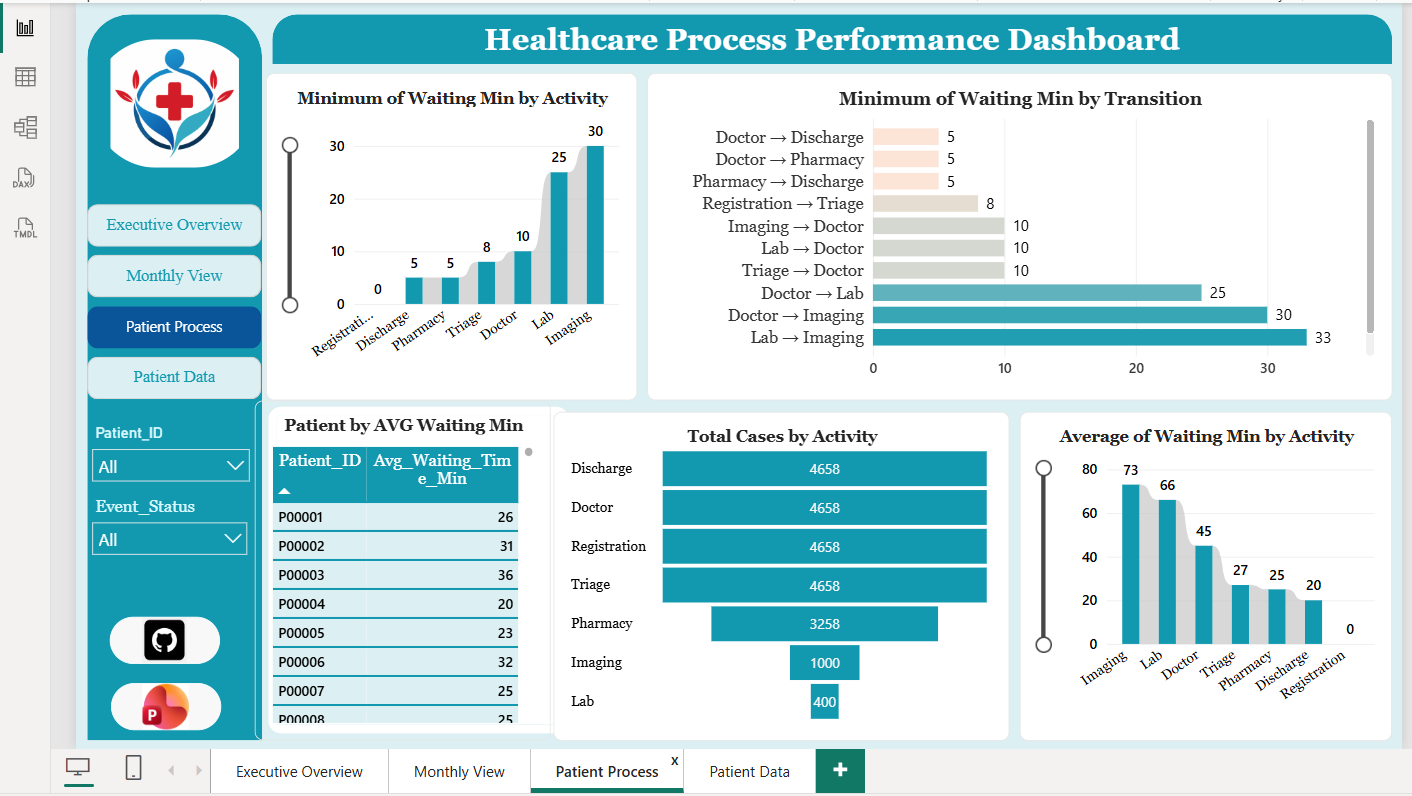

Layout of this report page (visuals, bound fields, positions):
{"tool":"powerbi","page":{"name":"Patient Process","canvas":[1280,720],"ordinal":2},"visuals":[{"type":"shape","box":[185.8,389.7,289.5,314.9],"z":0},{"type":"shape","box":[10.9,10.9,168.9,700.9],"z":1000},{"type":"image","box":[15.7,35,159.3,124.3],"z":2000},{"type":"shape","box":[189.4,10.9,1081,48.3],"z":3000},{"type":"barChart","title":"Minimum of Waiting Min by Transition","fields":{"Category":["mart_transition_analysis.Transition"],"Y":["Min(mart_transition_analysis.Min_Waiting_Time_Min)"]},"box":[551.3,67.6,719,316.1],"z":4000},{"type":"columnChart","title":"Minimum of Waiting Min by Activity","fields":{"Category":["mart_activity_bottleneck.Activity"],"Y":["Sum(mart_activity_bottleneck.Min_Waiting_Time_Min)"]},"box":[183.4,67.6,358.3,316.1],"z":5000},{"type":"columnChart","title":"Average of Waiting Min by Activity","fields":{"Category":["mart_activity_bottleneck.Activity"],"Y":["Avg(mart_activity_bottleneck.Avg_Waiting_Time_Min)"]},"box":[910.9,394.5,359.5,317.3],"z":6000},{"type":"tableEx","title":"Patient by AVG Waiting Min","fields":{"Values":["mart_case_summary.Patient_ID","mart_case_summary.Avg_Waiting_Time_Min"]},"box":[172.5,383.6,285.9,328.2],"z":7000},{"type":"funnel","title":"Total Cases by Activity","fields":{"Category":["mart_rework_analysis.Activity"],"Y":["Sum(mart_rework_analysis.Total_Cases)"]},"box":[460.9,394.5,440.4,317.3],"z":8000},{"type":"slicer","fields":{"Values":["mart_case_summary.Patient_ID"]},"box":[10.9,406.6,161.7,61.5],"z":9000},{"type":"pageNavigator","box":[10.9,194.2,168.9,189.4],"z":10000},{"type":"slicer","fields":{"Values":["mart_case_summary.Event_Status_Summary"]},"box":[10.9,476.5,159.3,61.5],"z":11000},{"type":"image","title":"Github","box":[32.6,592.4,106.2,45.8],"z":12000},{"type":"image","title":"Github","box":[33.8,656.3,106.2,45.8],"z":13000}]}

Visuals, with their boxes on the page's 1280x720 design canvas (x1, y1, x2, y2). These are canvas units, not pixel positions in the 1412x796 screenshot, which may show the page scaled, cropped or inside an application window:
shape: x1=186, y1=390, x2=475, y2=705
shape: x1=11, y1=11, x2=180, y2=712
image: x1=16, y1=35, x2=175, y2=159
shape: x1=189, y1=11, x2=1270, y2=59
"Minimum of Waiting Min by Transition" barChart: x1=551, y1=68, x2=1270, y2=384
"Minimum of Waiting Min by Activity" columnChart: x1=183, y1=68, x2=542, y2=384
"Average of Waiting Min by Activity" columnChart: x1=911, y1=394, x2=1270, y2=712
"Patient by AVG Waiting Min" tableEx: x1=172, y1=384, x2=458, y2=712
"Total Cases by Activity" funnel: x1=461, y1=394, x2=901, y2=712
slicer - mart_case_summary.Patient_ID: x1=11, y1=407, x2=173, y2=468
pageNavigator: x1=11, y1=194, x2=180, y2=384
slicer - mart_case_summary.Event_Status_Summary: x1=11, y1=476, x2=170, y2=538
"Github" image: x1=33, y1=592, x2=139, y2=638
"Github" image: x1=34, y1=656, x2=140, y2=702
